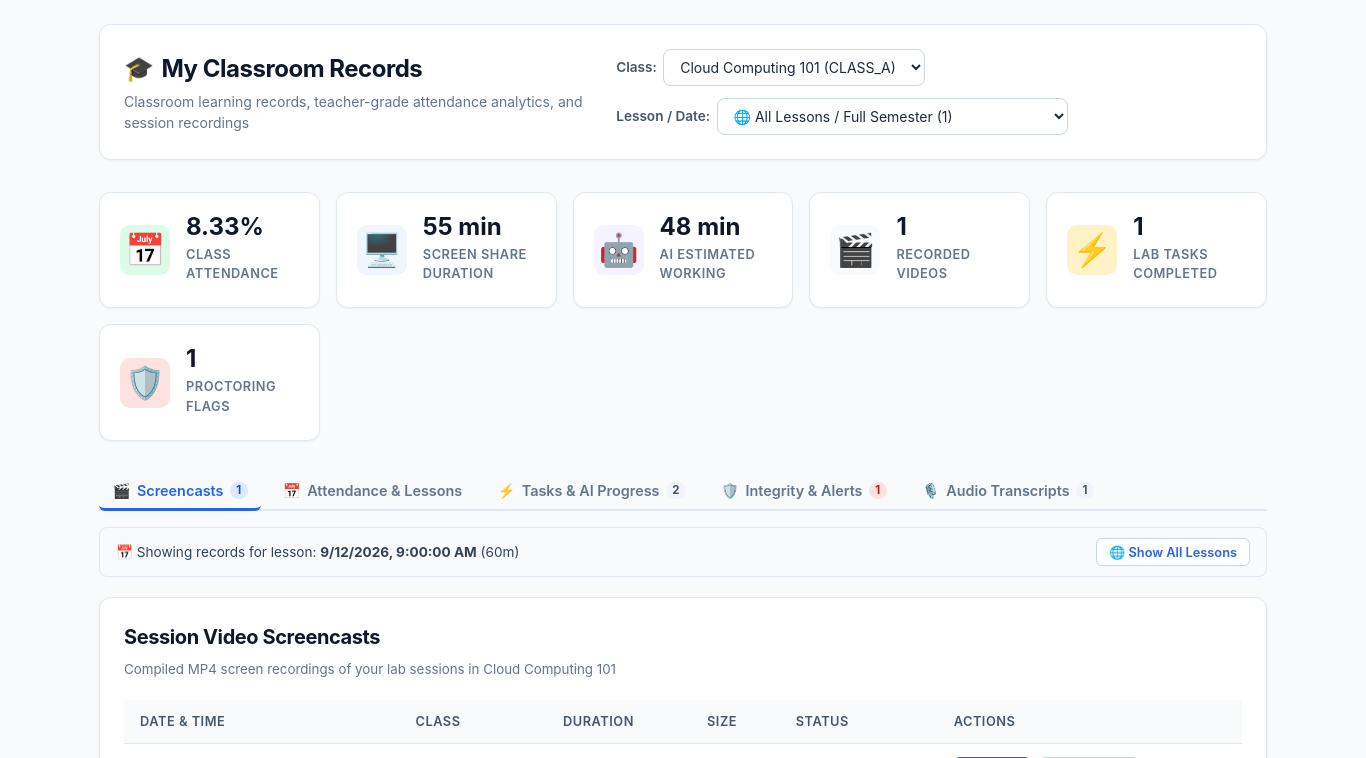
Test: StudentRecordsView Component › switches to Attendance tab and displays the 3 distinct ratios and minute-by-minute timeline
What coordinates should you click on to do the following:
click the tab "📅 Attendance & Lessons"
I would click on:
 (372, 492)
Its box is [269,473,476,511].
(page scrolled)
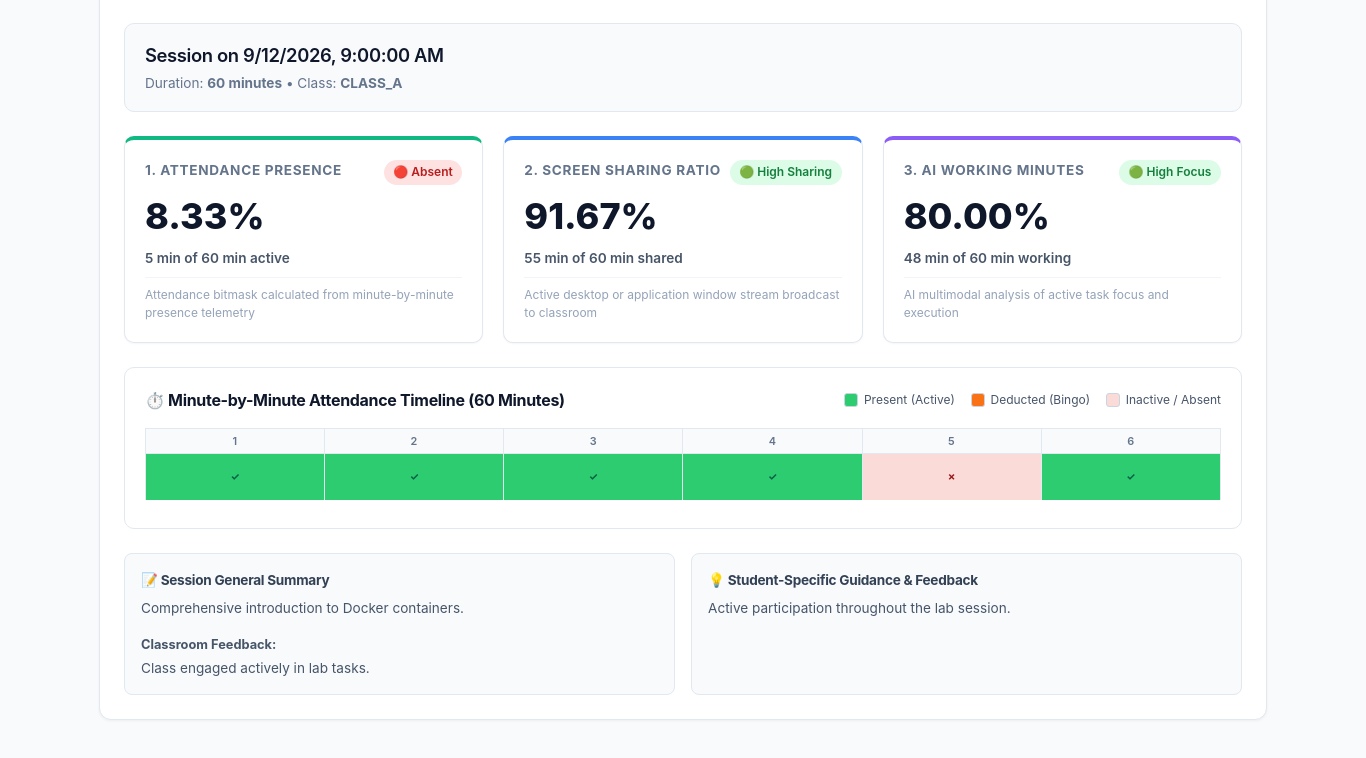
Expected: the text "Active participation throughout the lab session." is shown, [708,600,1011,616]
Expected: the heading "1. Attendance Presence" is shown, [145,160,342,181]
Expected: the heading "2. Screen Sharing Ratio" is shown, [524,160,721,181]
